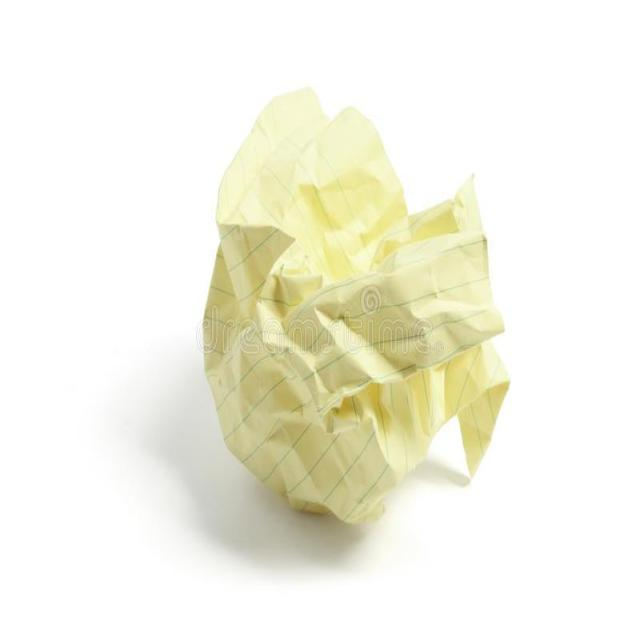Organik: (198, 84, 514, 526)
